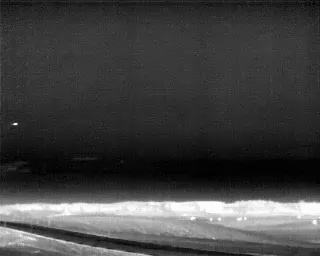BIRD: (11, 120, 20, 128)
